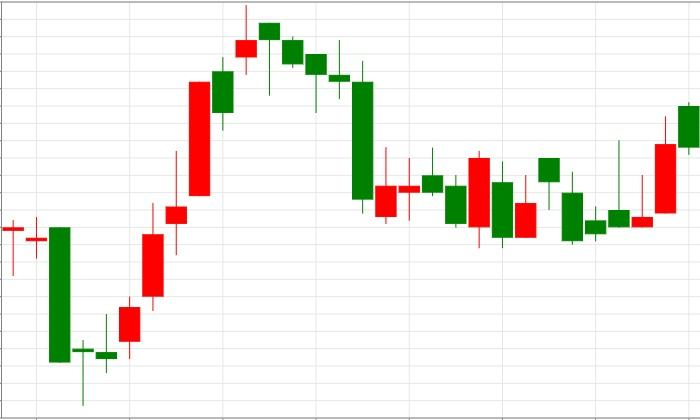hanging_man_fall: (118, 4, 280, 359)
